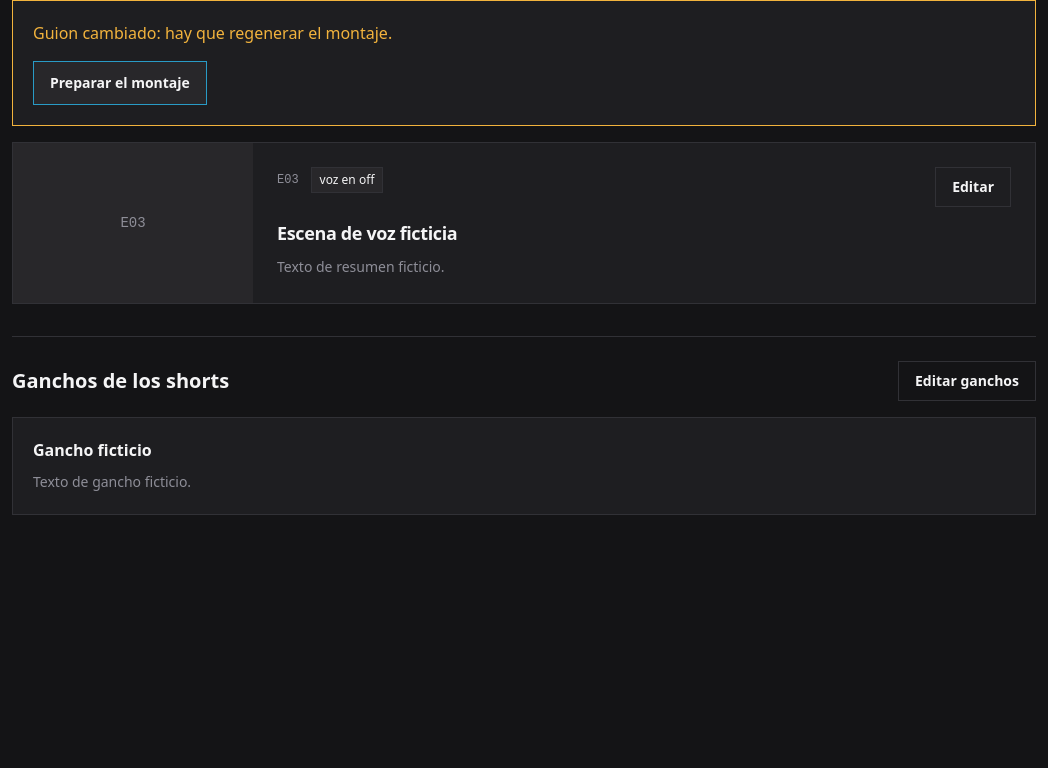
Scenario: GuionEditable: aviso del montaje › tras preparar el montaje desde el aviso enseña «Montaje al día.» con Hecho
Later steps or results of the test are not shown.
Click the button "Preparar el montaje".
click(120, 83)  # box [33,61,207,105]
Wait 2000 ms
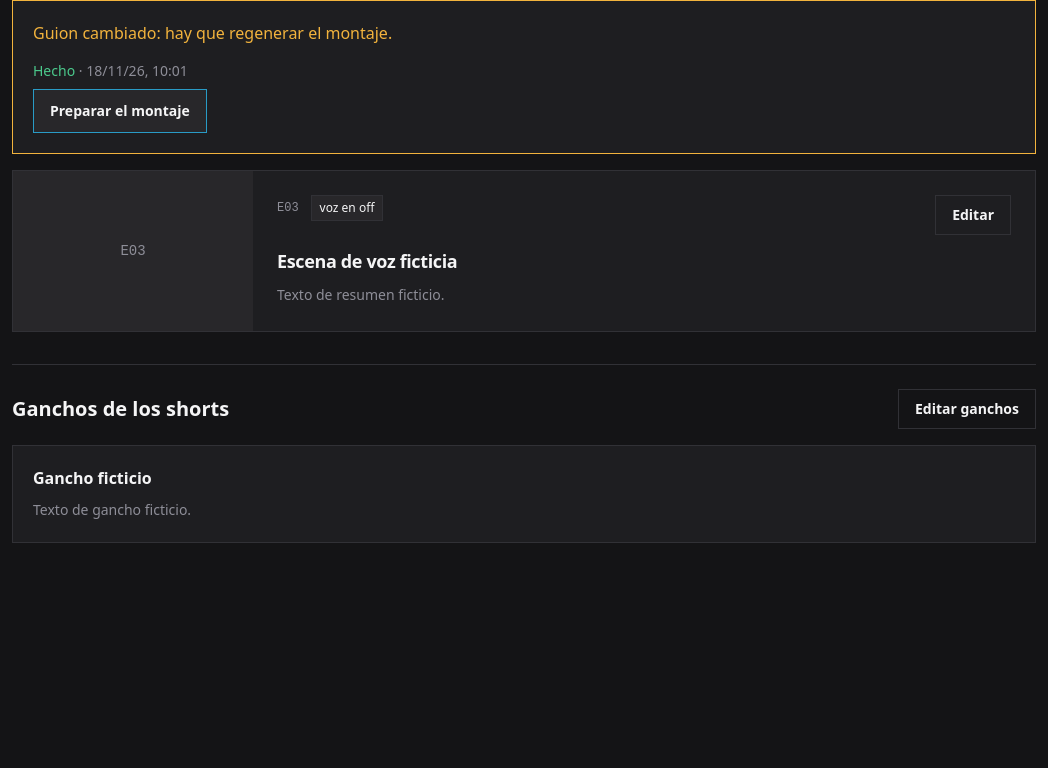
Now the text "En marcha…" is shown, box [33,61,188,81]
